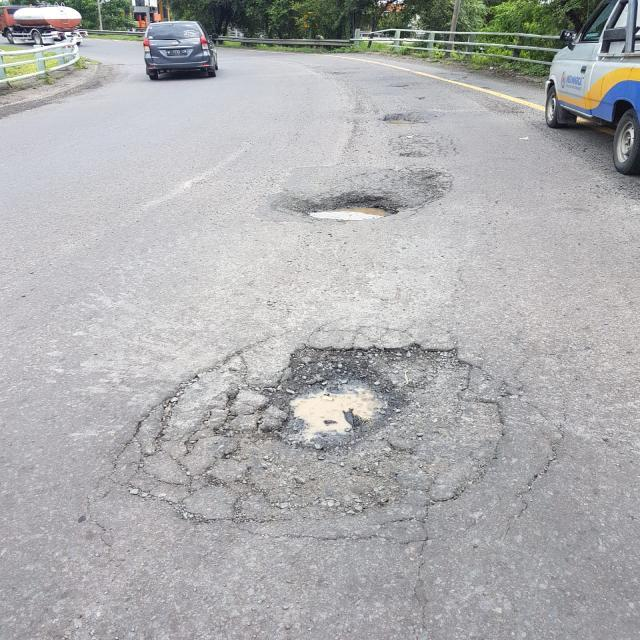Buraco: (109, 340, 512, 530), (290, 189, 406, 224), (479, 95, 534, 115), (376, 112, 421, 130)
